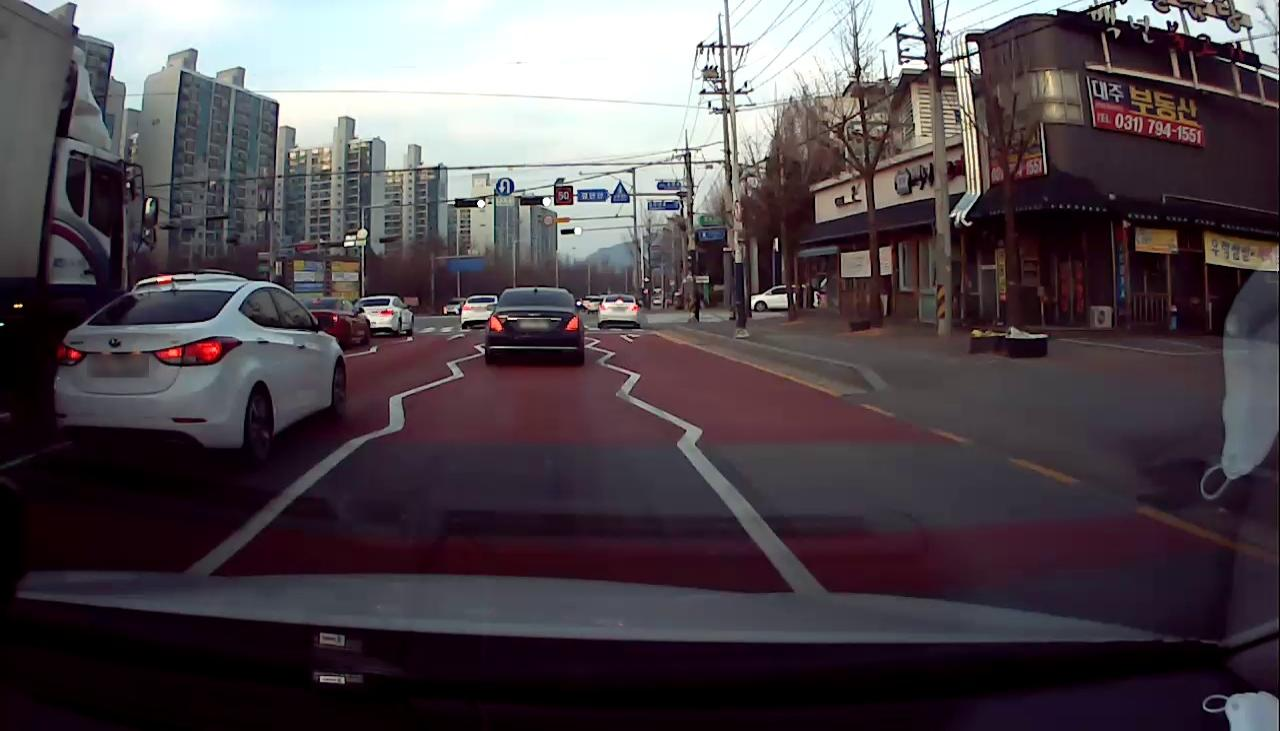Green Light: (542, 196, 552, 206), (574, 226, 583, 236), (476, 199, 485, 208)
